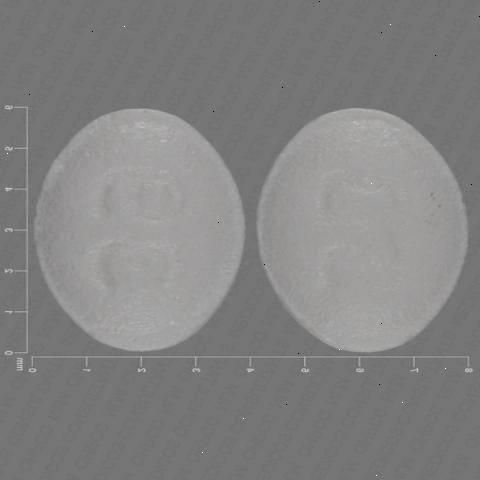Pill: (252, 76, 474, 357), (33, 96, 251, 352)
